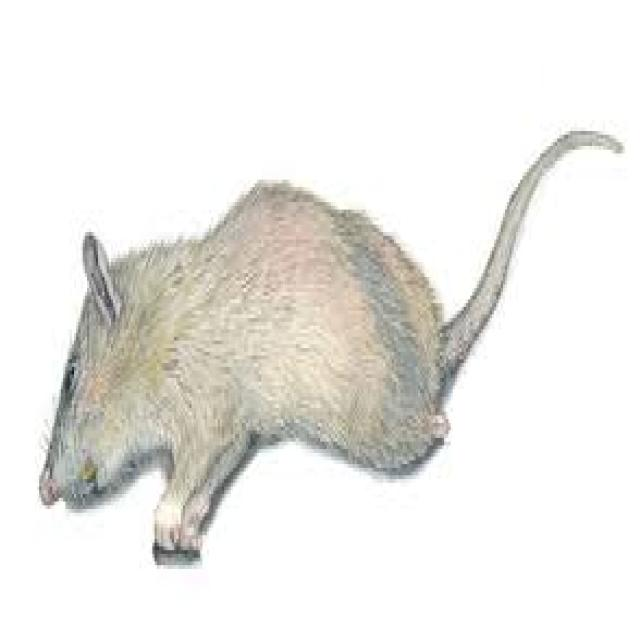rat: (37, 124, 625, 565)
